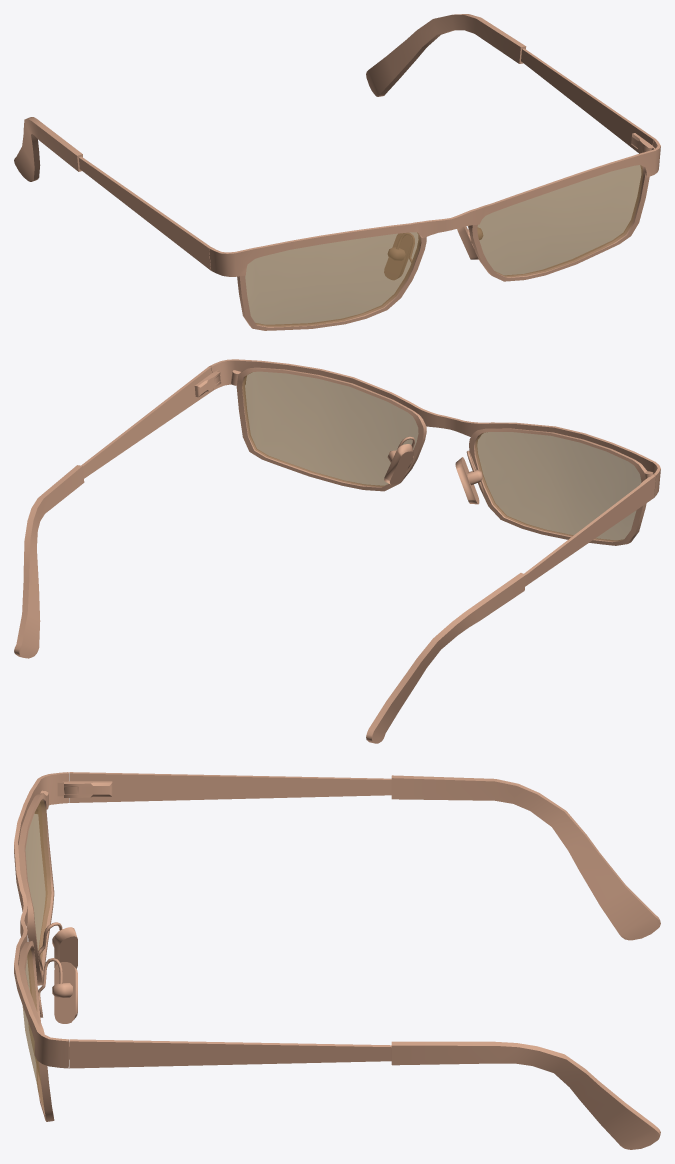
File: model_9_tembaga.glb
3 renders of one model, top to bottom at view 1: azimuth 30°, elevation 25°; view 2: azimuth 150°, elevation 25°; view 3: azimuth 270°, elevation 25°, orthographic. The views are drawn at different scales.
Visible parts, largest first — view 1: model_9_tembaga; view 2: model_9_tembaga; view 3: model_9_tembaga.
Boxes of the visible parts, <box> form: model_9_tembaga: <box>14,14,660,330</box>; model_9_tembaga: <box>14,359,660,743</box>; model_9_tembaga: <box>14,772,660,1149</box>.
Size of the model in its own units: 3.23 by 0.7924 by 3.27.
